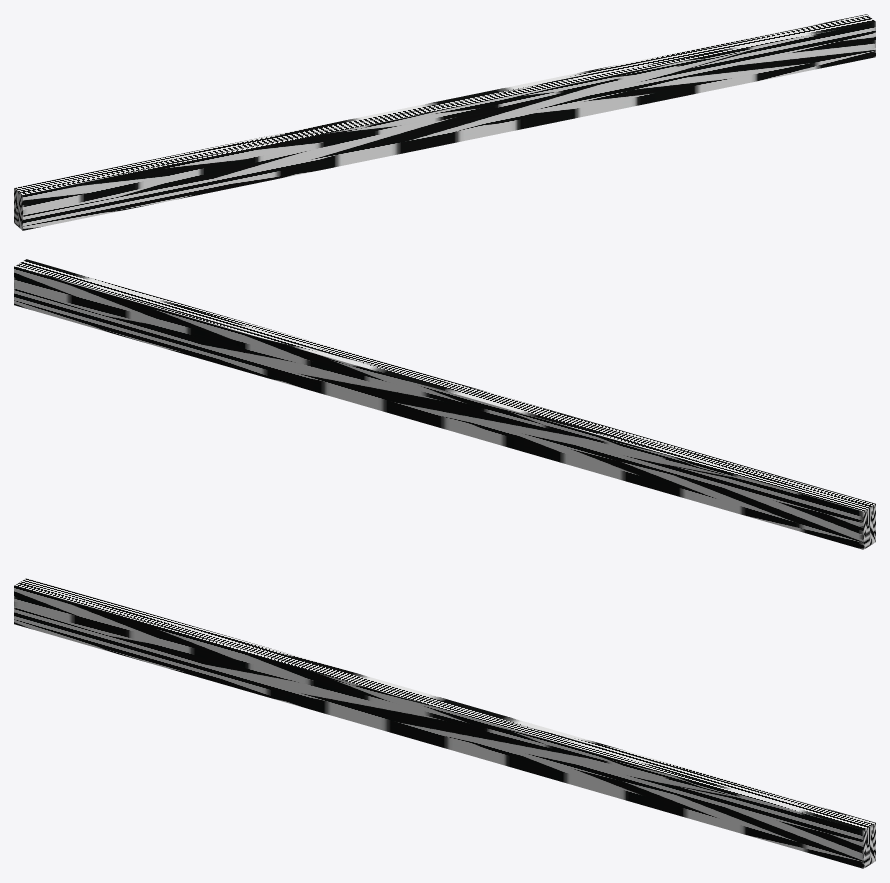
3 renders of one model, top to bottom at view 1: azimuth 30°, elevation 25°; view 2: azimuth 150°, elevation 25°; view 3: azimuth 330°, elevation 25°, orthographic. The views are drawn at different scales.
Visible parts, largest first — view 1: Cube.011; view 2: Cube.011; view 3: Cube.011.
Part boxes in pixels (box(x1,y1,x2,y2)): Cube.011: box(14, 14, 875, 230); Cube.011: box(14, 259, 875, 549); Cube.011: box(14, 578, 875, 868).
Size of the model in its own units: 13.72 by 0.5648 by 1.32.
Materials: 1 (1 with a texture image).
